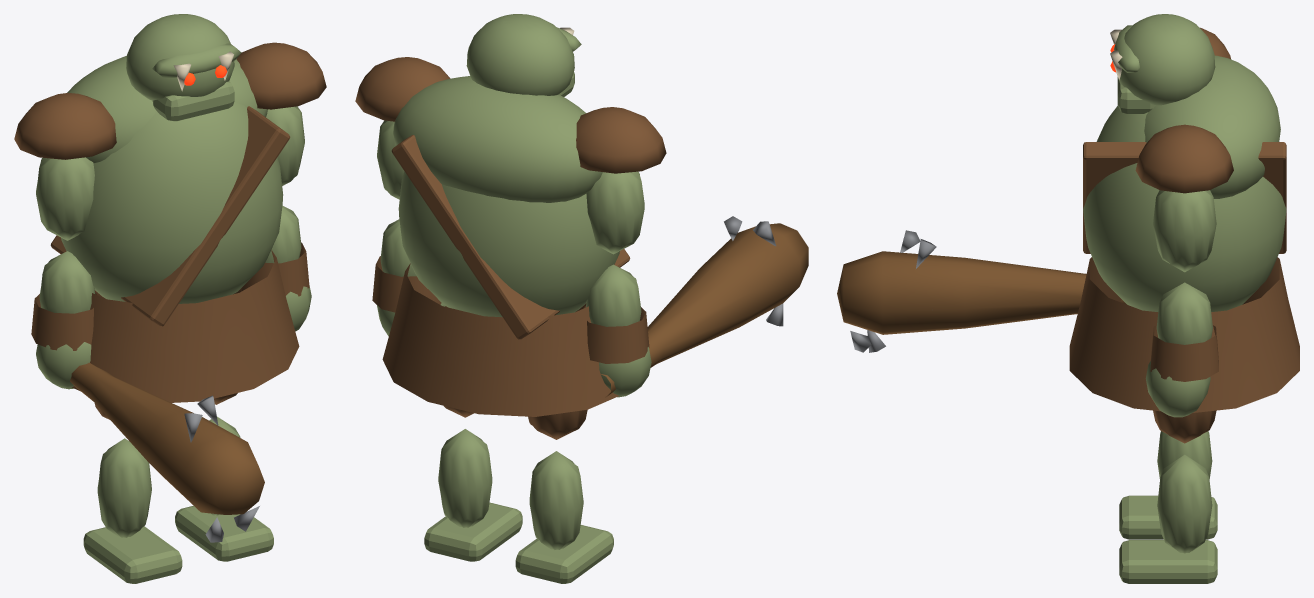
The model's file is ogre.glb.
3 views of the same model, side by side, from view 1: azimuth 30°, elevation 25°; view 2: azimuth 150°, elevation 25°; view 3: azimuth 270°, elevation 25° (orthographic).
Visible parts, largest first — view 1: belly, loin, club, beltstrap, head.001, shoulder.001, chesthump, shoulder, shin.001, arm.001, foot.001, foot (+9 smaller); view 2: loin, belly, chesthump, club, head.001, beltstrap, shoulder.001, shin.001, shin, arm.001, shoulder, foot (+8 smaller); view 3: belly, loin, club, chesthump, head.001, shoulder, shin, arm, foot, beltstrap, forearm, bracer (+6 smaller).
Part boxes in pixels (x1,y1,x2,y2): belly: (61, 101, 283, 303); loin: (72, 250, 299, 402); club: (70, 362, 264, 514); beltstrap: (50, 106, 290, 326); head.001: (126, 14, 234, 100); shoulder.001: (14, 93, 116, 159); chesthump: (67, 55, 267, 163); shoulder: (236, 42, 326, 109); shin.001: (97, 438, 151, 537); arm.001: (36, 157, 94, 240); foot.001: (83, 526, 182, 583); foot: (175, 505, 273, 561); loin: (382, 263, 618, 416); belly: (398, 171, 619, 317); chesthump: (393, 76, 602, 202); club: (600, 223, 808, 397); head.001: (466, 14, 574, 95); beltstrap: (391, 135, 630, 339); shoulder.001: (576, 107, 666, 173); shin.001: (529, 451, 583, 549); shin: (438, 429, 492, 527); arm.001: (586, 171, 644, 254); shoulder: (355, 57, 450, 121); foot: (424, 502, 522, 561); belly: (1083, 105, 1286, 311); loin: (1069, 257, 1299, 412); club: (837, 251, 1126, 334); chesthump: (1144, 55, 1280, 198); head.001: (1117, 14, 1215, 105); shoulder: (1135, 124, 1233, 193); shin: (1157, 454, 1212, 553); arm: (1153, 190, 1216, 272); foot: (1119, 540, 1217, 583); beltstrap: (1083, 142, 1286, 253); forearm: (1156, 282, 1212, 344); bracer: (1150, 325, 1218, 381).
Size of the model in its own units: 1.05 by 1.78 by 1.41.
